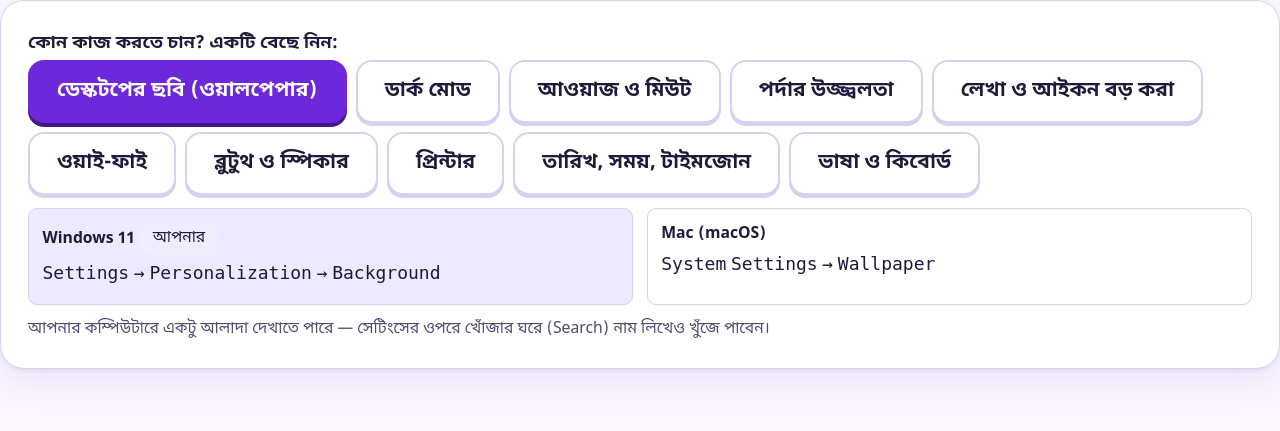
it: settings-map widget › shows Windows and Mac paths for the chosen setting
Check: the element showing "Windows 11 আপনার Settings → Personalization → Background" is shown, box [28,208,633,304]
Check: the element showing "Mac (macOS) System Settings → Wallpaper" is shown, box [647,208,1252,304]
Click the button "প্রিন্টার" at (446, 163), box [387,132,504,194]
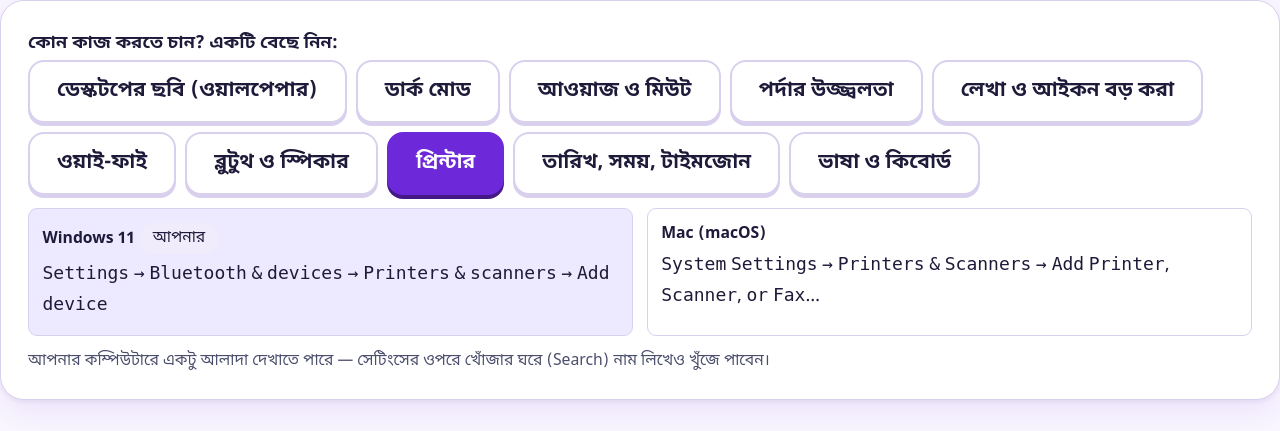
Check: the element that starts with "Windows 11" shows "Printers & scanners", box [42,262,610,317]
Check: the element that starts with "Mac (macOS)" shows "Add Printer", box [661,252,1170,308]
